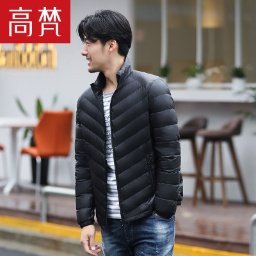face: (79, 10, 131, 74)
